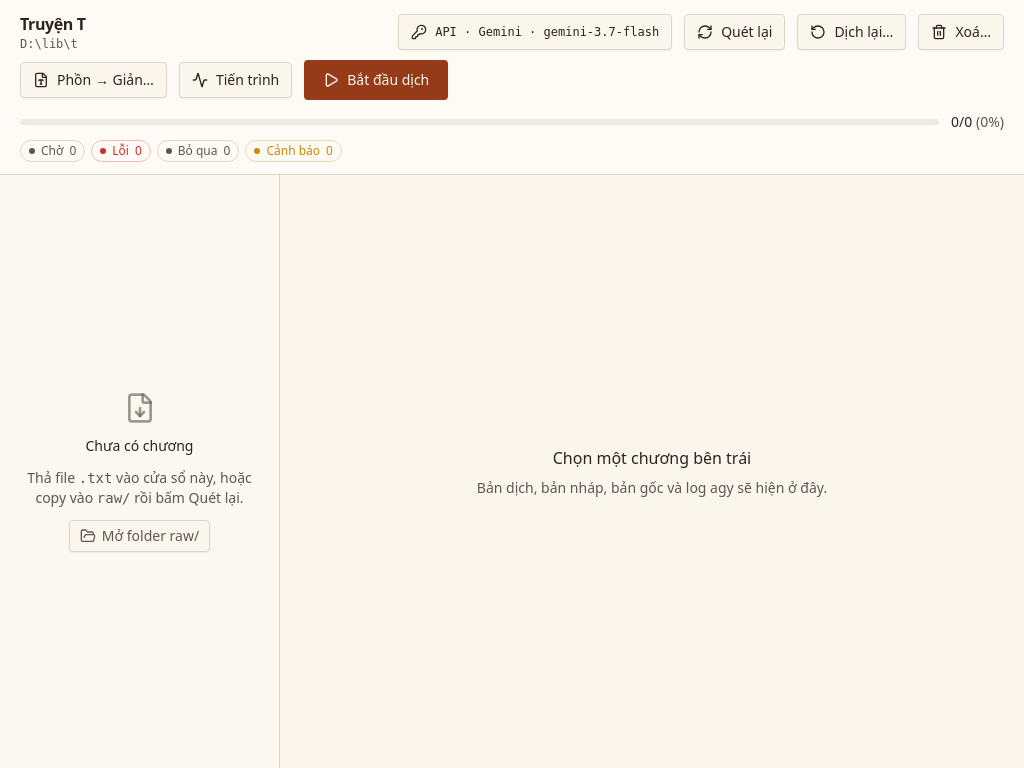
Scenario: TranslatePage · chưa có chương, Quét lại, kéo thả › 0 chương: hiện hướng dẫn thả file + nút mở raw/; Quét lại thấy chương mới thì cập nhật snapshot
Expected: the text "Chưa có chương" is shown, [86, 436, 194, 456]
Click the button "Mở folder raw/".
click(140, 536)  # box [69, 520, 210, 552]
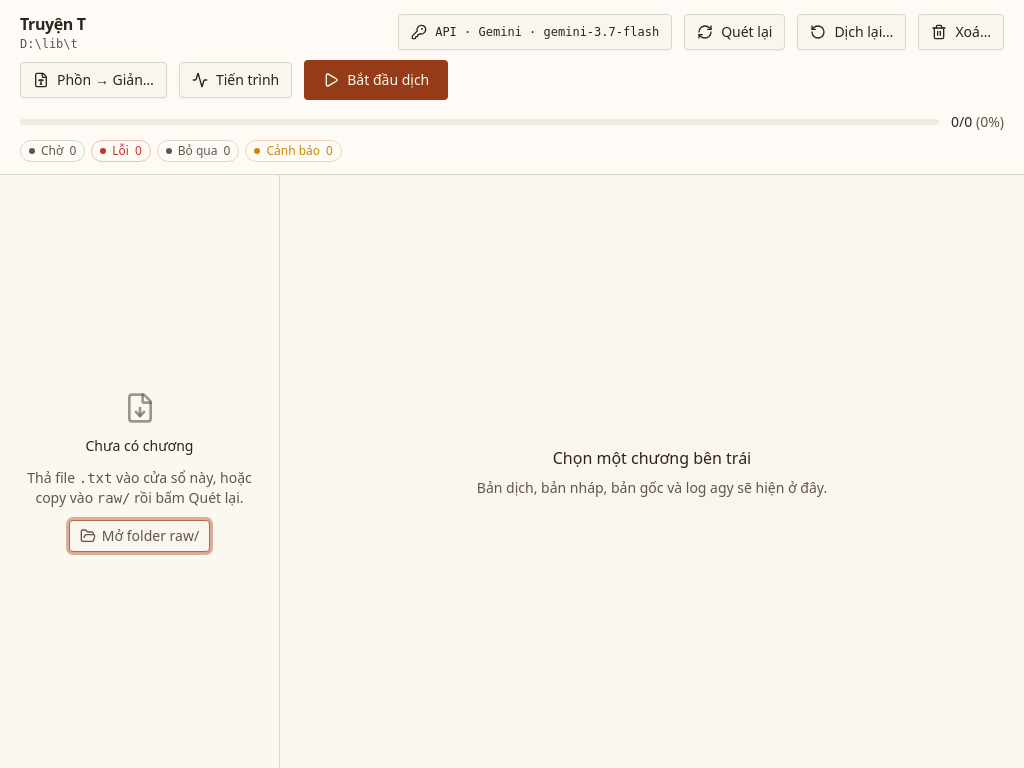
Click the button "Quét lại".
click(735, 32)  # box [684, 14, 785, 50]
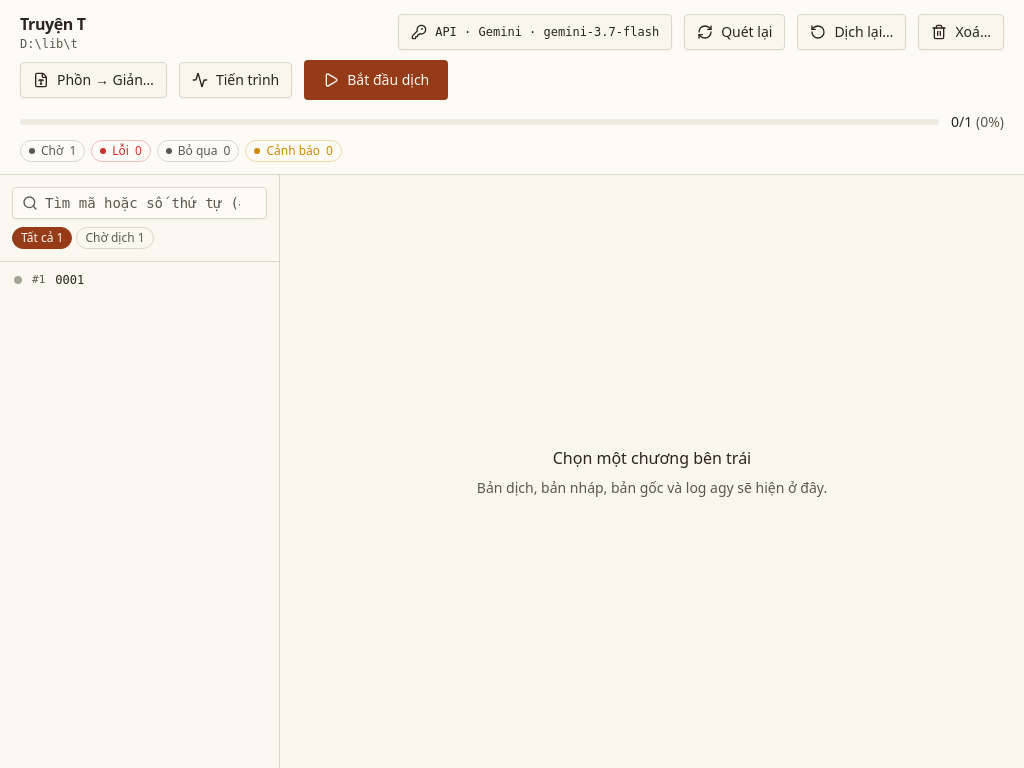
Expected: the text "Chưa có chương" is gone
Expected: the option "#1 0001" is shown, [14, 273, 84, 287]
